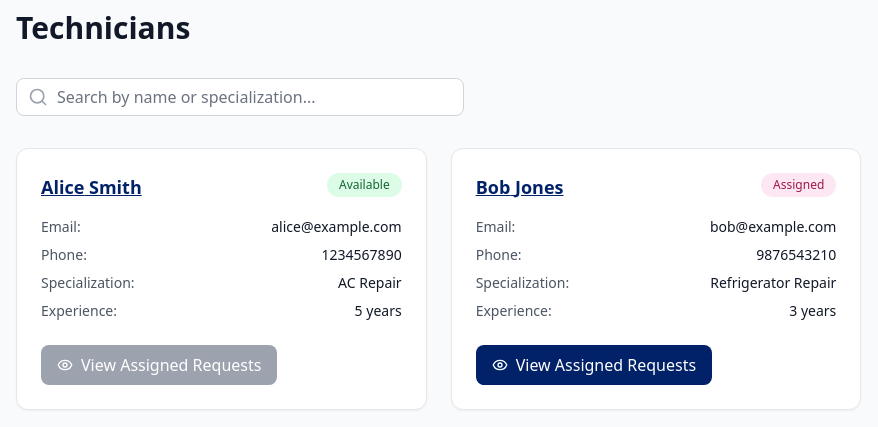
TechnicianList › filters technicians by search
The width and height of the screenshot is (878, 427).
Expected: the heading "Alice Smith" is shown, [41,173,142,201]
In the field with placeholder "Search by name or specialization...": {"x": 240, "y": 97} [16,78,464,116], type "Alice"
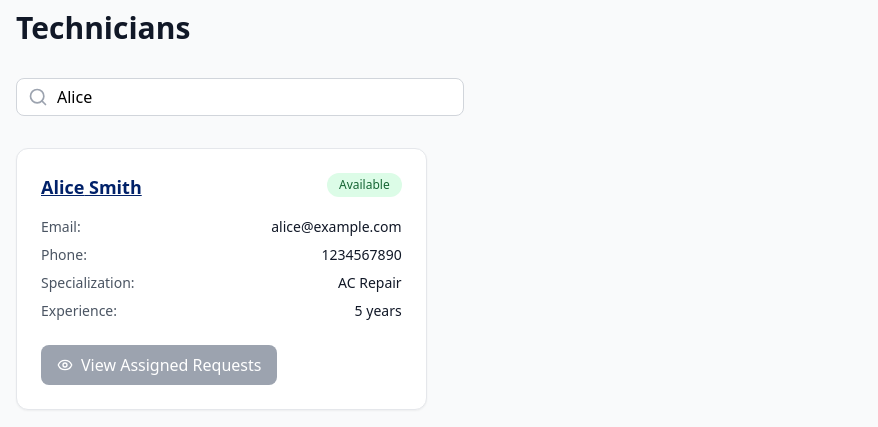
Expected: the heading "Alice Smith" is shown, [41,173,142,201]
Now the heading "Bob Jones" is gone
